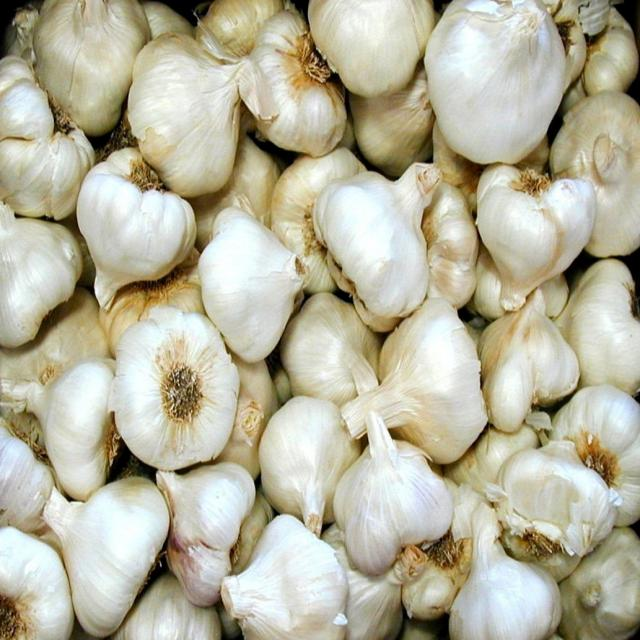garlic: (422, 0, 564, 161), (112, 307, 236, 471), (125, 29, 239, 185), (317, 162, 429, 317), (64, 471, 165, 631), (384, 302, 484, 458), (477, 164, 589, 300), (76, 166, 194, 294), (203, 210, 298, 353), (337, 440, 440, 570), (248, 14, 340, 157), (247, 512, 347, 640), (32, 0, 132, 121), (256, 394, 341, 524), (448, 544, 561, 640)
